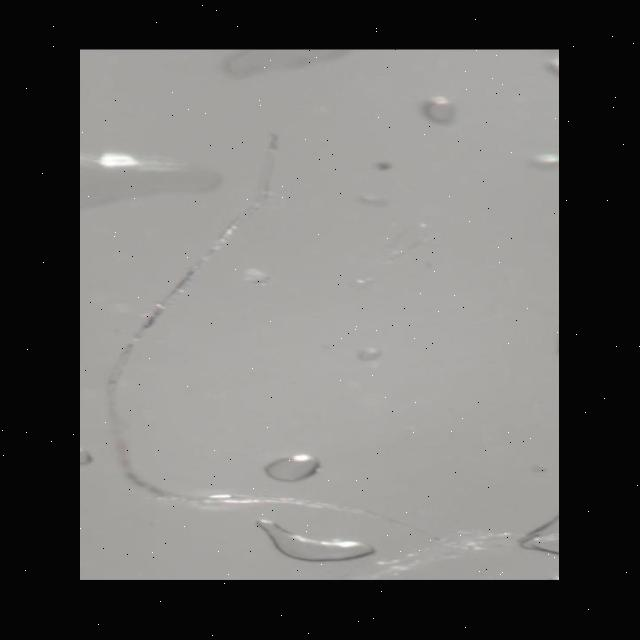Fibre: (94, 128, 452, 558)
